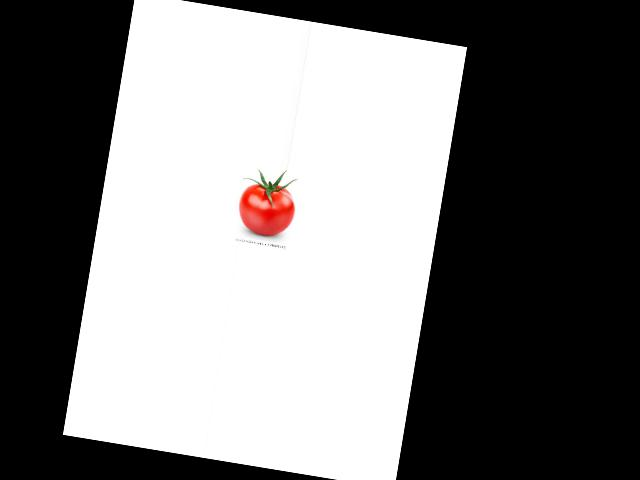tomato: (235, 180, 298, 238)
